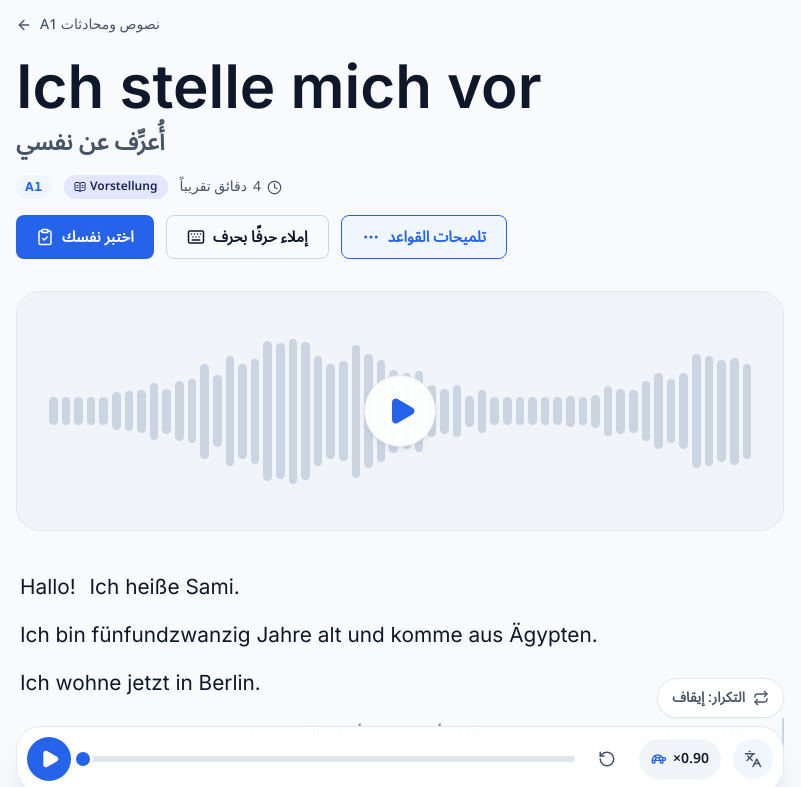
Test: StoryPage — reading text › cycles the speed and saves it as the app-wide preference
Click the button named "سرعة القراءة": (680, 759) [639,739,721,779]
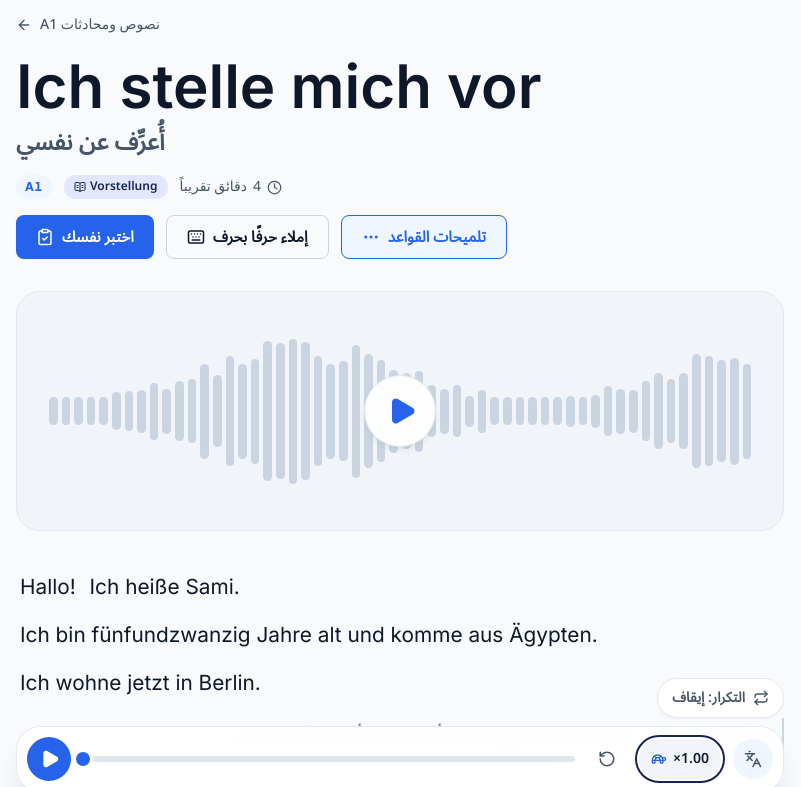
Check: the button named "سرعة القراءة ×1.00" is shown, box [639,739,721,779]
